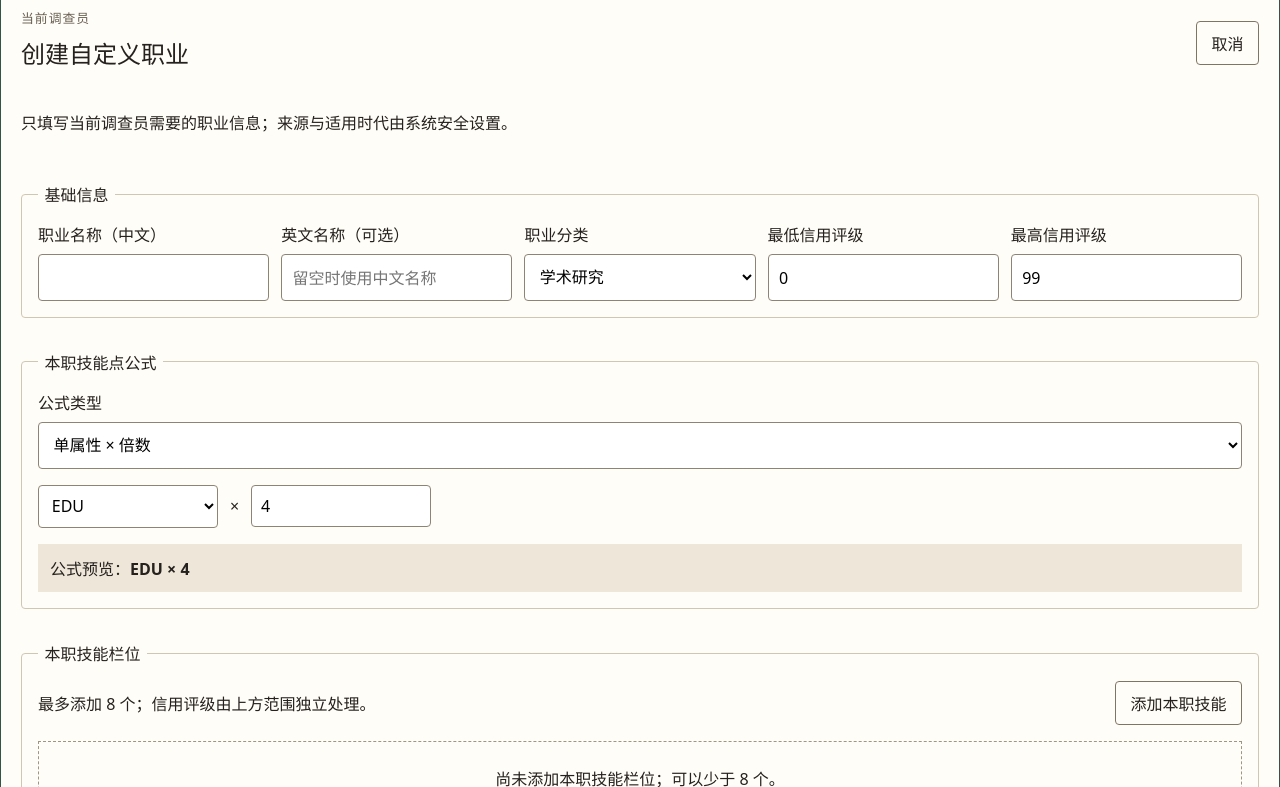
CustomOccupationBuilder player-facing terminology › uses 技能专攻 consistently for specialization controls
The image size is (1280, 787).
Click the button with test id "add-custom-skill-slot". click: (1179, 703)
box: x1=1115 y1=681 x2=1242 y2=725
(page scrolled)
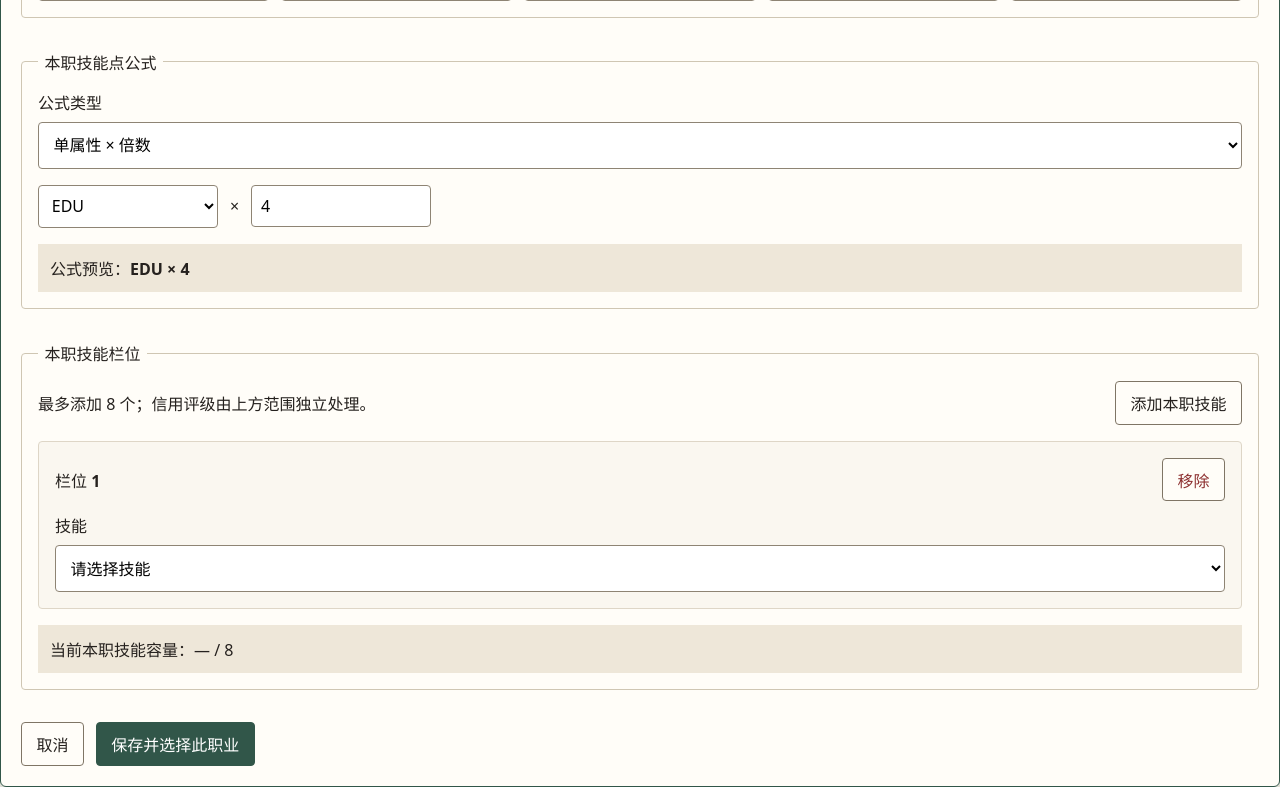
Select "格斗" in the dropdown named "栏位 1 技能". click: (640, 569)
box: x1=55 y1=545 x2=1225 y2=592
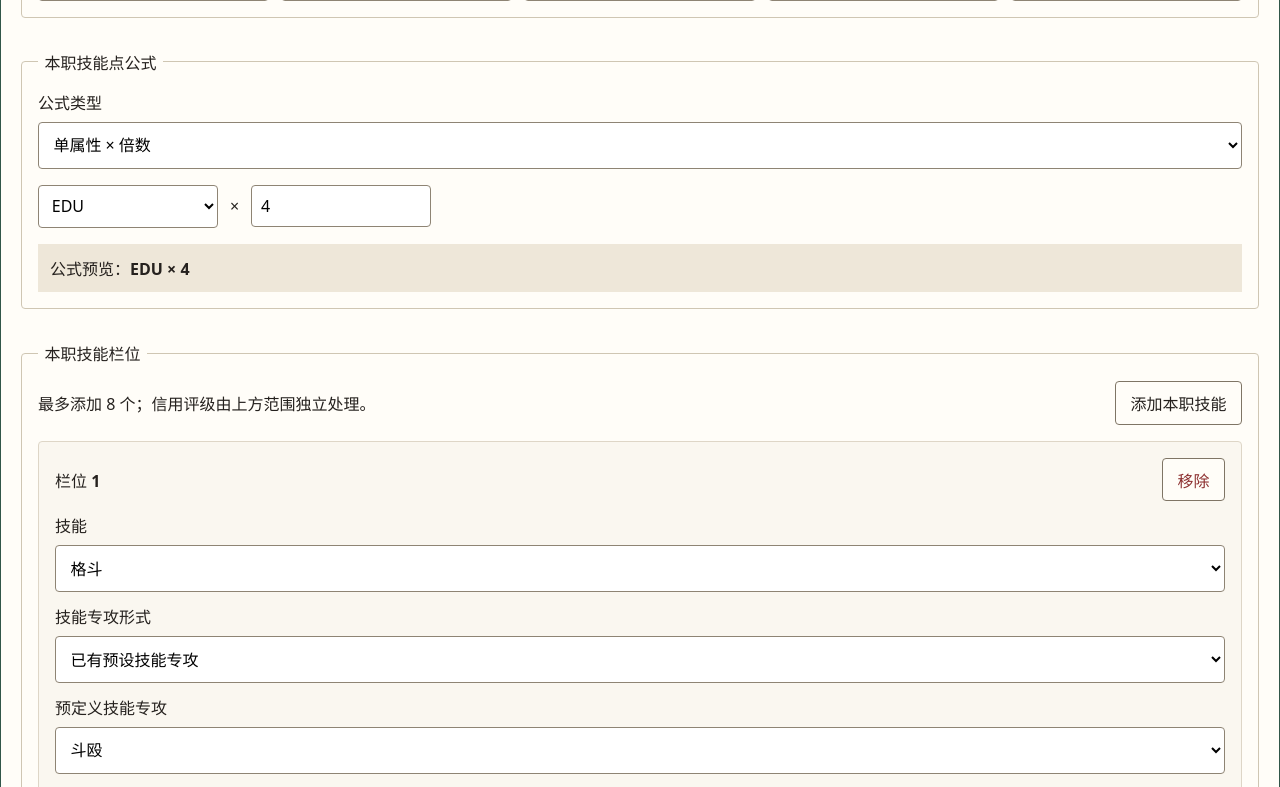
Expected: the text "技能专攻形式" is shown, x1=55 y1=606 x2=151 y2=628
